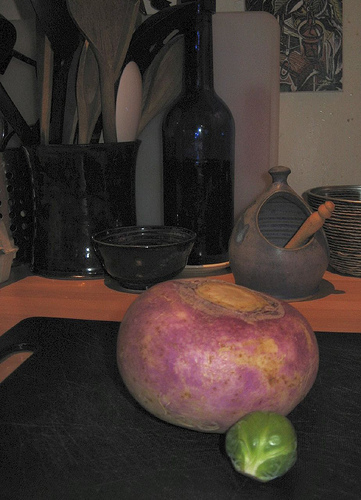turnip: (114, 277, 318, 433)
